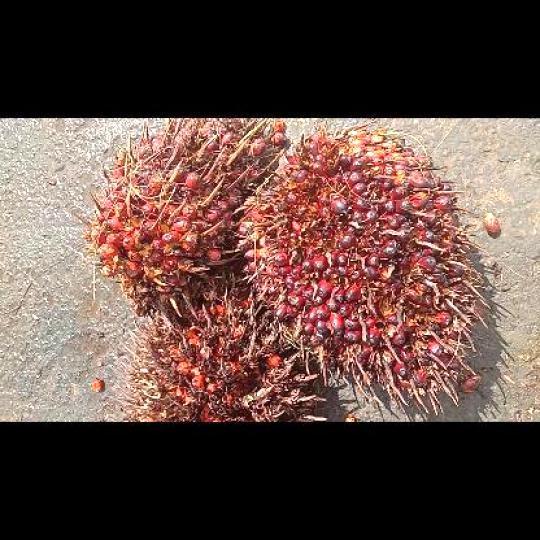masak: (236, 118, 491, 414), (74, 118, 282, 316)
terlalu masak: (107, 289, 327, 420)
